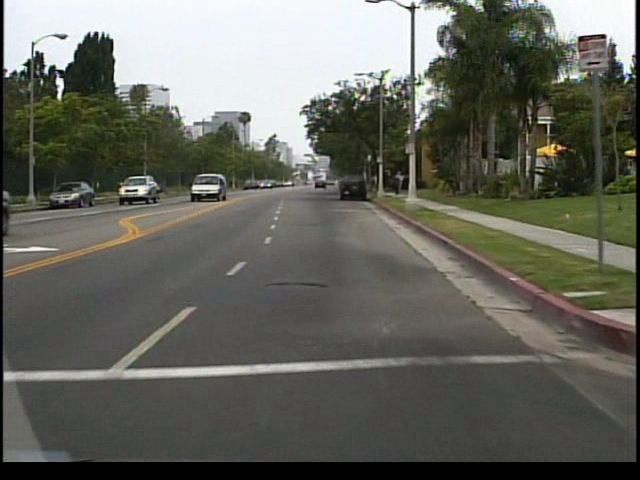person: (395, 169, 408, 198), (391, 174, 400, 195)
